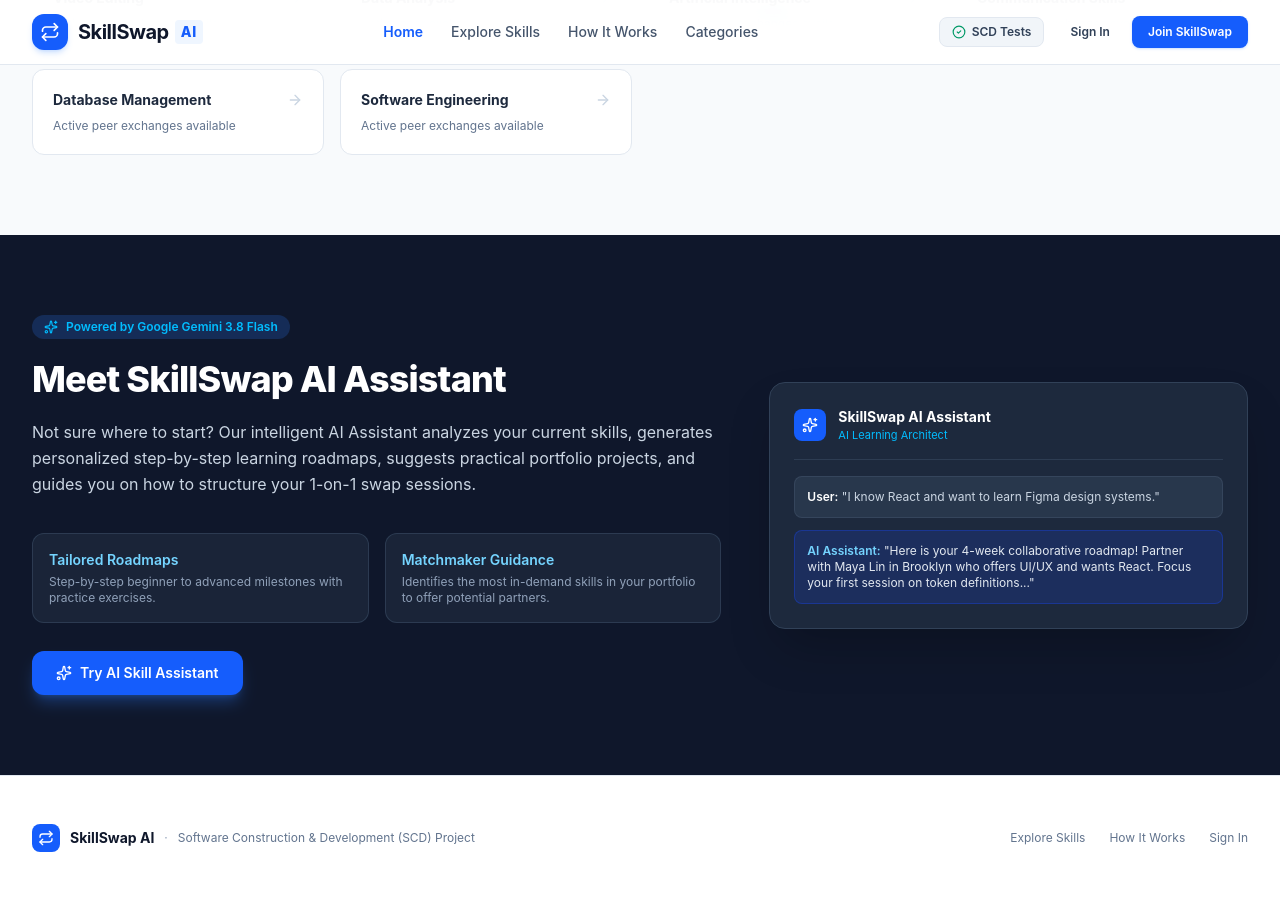
it: Authorization & Guest Protection (App + Navbar) › blocks guest from protected AI Assistant route and opens login modal
(page scrolled)
Click the button "Try AI Skill Assistant" at (137, 673), box [32, 651, 243, 695]
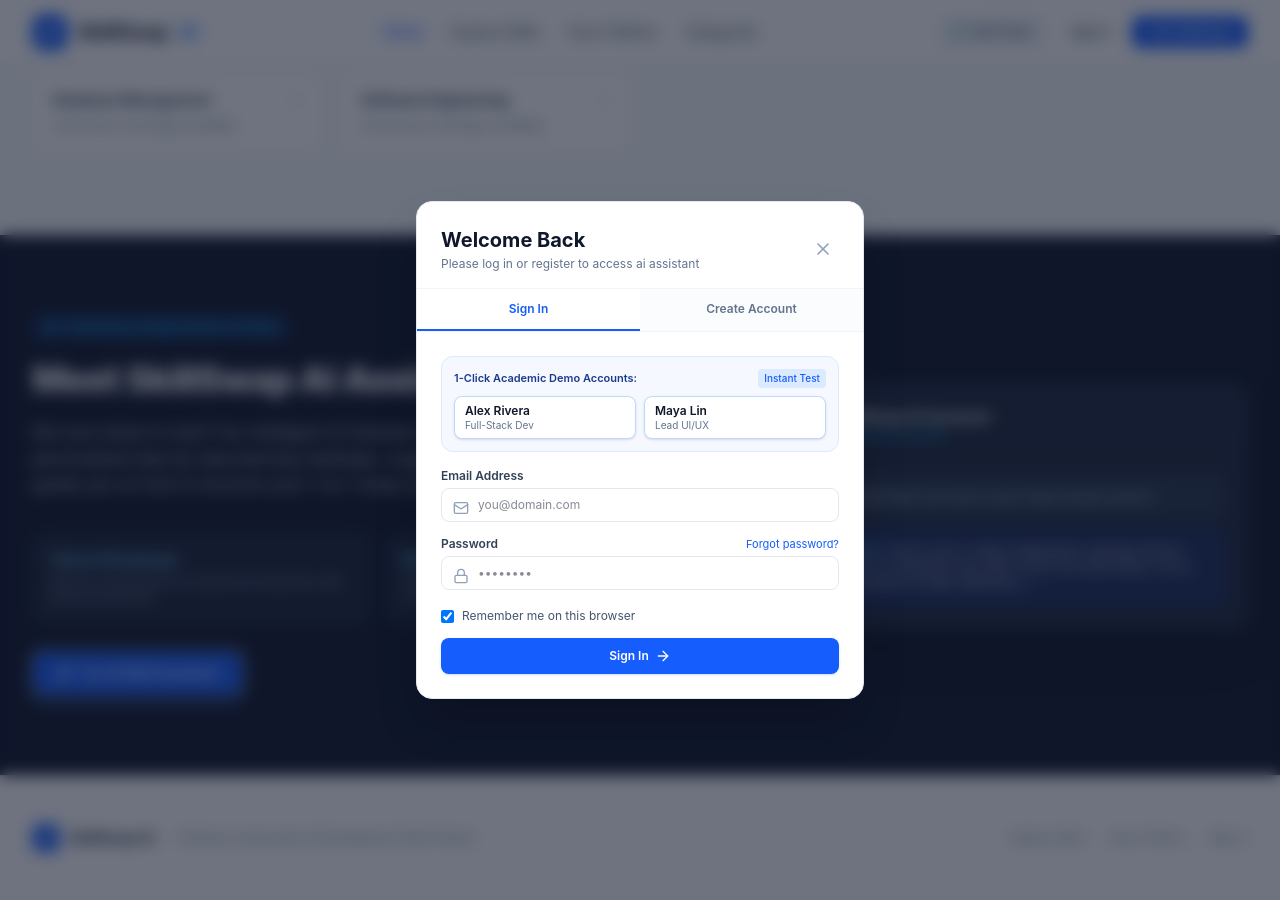
Expected: the heading "Welcome Back" is shown, [441, 228, 585, 252]
Expected: the text "Please log in or register to access ai assistant" is shown, [441, 256, 699, 272]
